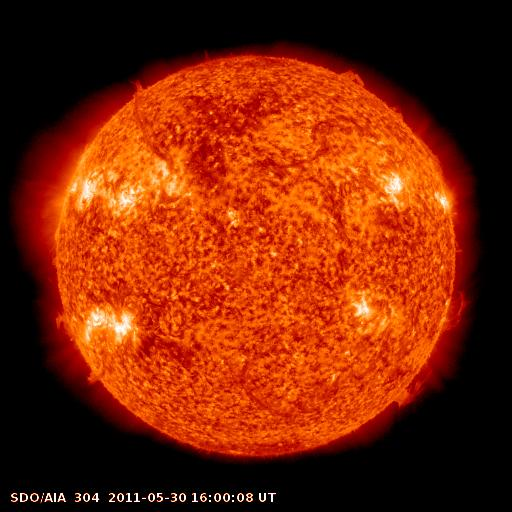prominence: (391, 290, 477, 411), (44, 304, 85, 346), (328, 62, 377, 91), (118, 70, 162, 101), (73, 363, 113, 397), (380, 96, 419, 125)
